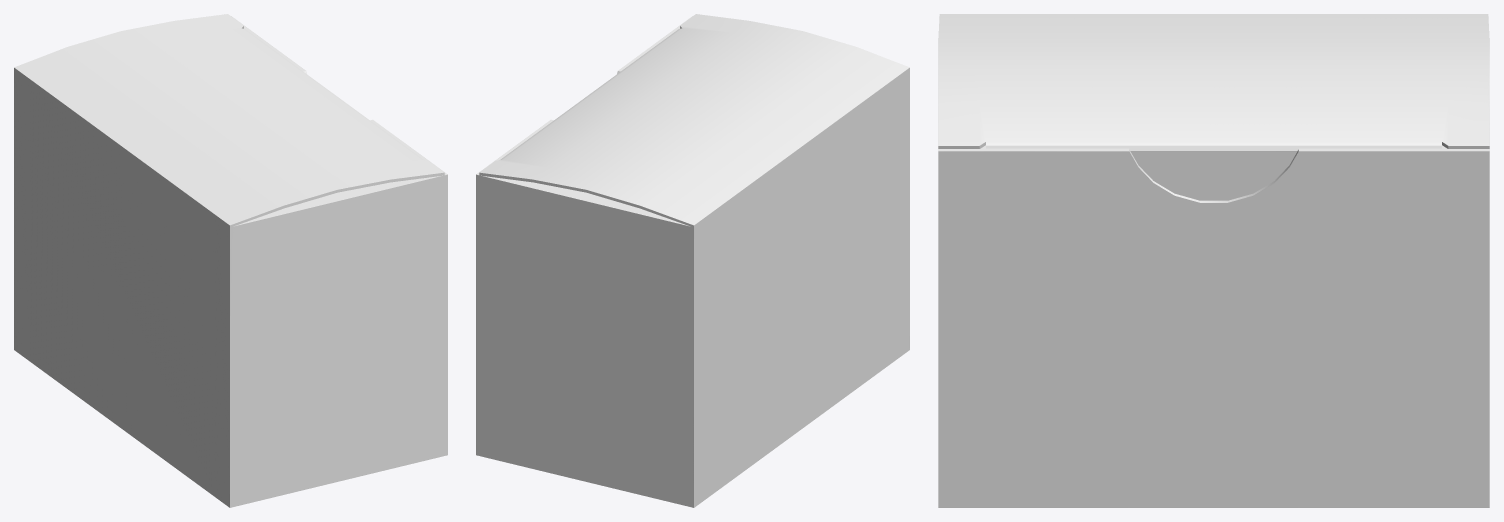
Rendered from 5.45x39 close.fbx.
3 views of the same model, side by side, from view 1: azimuth 30°, elevation 25°; view 2: azimuth 150°, elevation 25°; view 3: azimuth 270°, elevation 25° (orthographic). The views are drawn at different scales.
Visible parts, largest first — view 1: 5_45×39; view 2: 5_45×39; view 3: 5_45×39.
Part boxes in pixels (left/top/right/bottom): 5_45×39: left=14, top=14, right=447, bottom=507; 5_45×39: left=476, top=14, right=909, bottom=507; 5_45×39: left=938, top=14, right=1489, bottom=507.
Bounding box in the file's own units: 4.06 × 5.21 × 7.
Materials: 1 (1 with a texture image).
